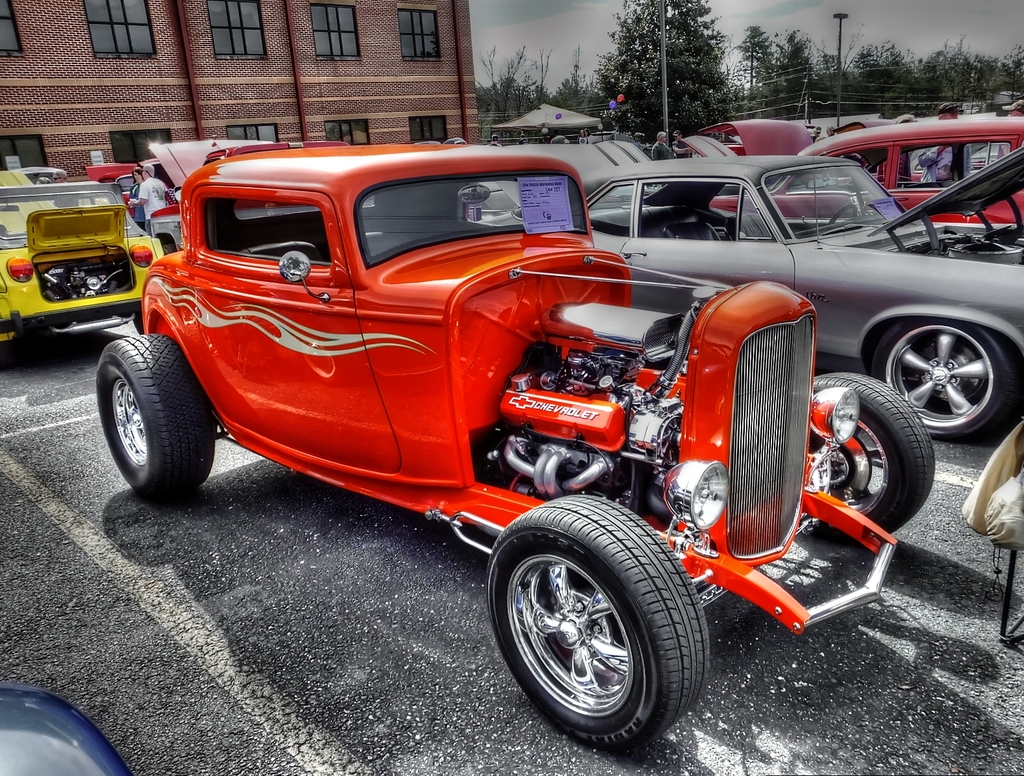Car: (0, 102, 1023, 775)
